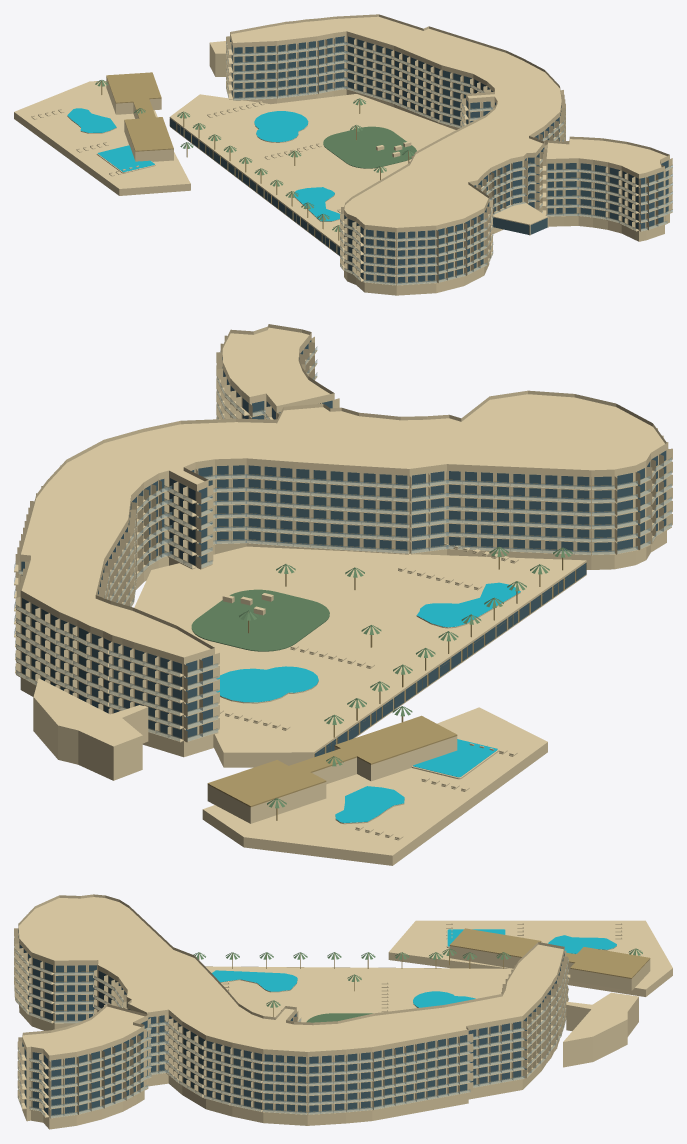
File: doubletree.glb
3 renders of one model, top to bottom at view 1: azimuth 30°, elevation 25°; view 2: azimuth 150°, elevation 25°; view 3: azimuth 270°, elevation 25°, orthographic. The views are drawn at different scales.
Visible parts, largest first — view 1: Geschwungener Hauptbau, Poolterrassen und Dolmen-Garten, Beach Club und Felsenterrasse, Gebogener Eingangsfluegel, Gartenpools, Pools direkt am Meer, Verglaste Eingangshalle, Niedriger Nordfluegel; view 2: Geschwungener Hauptbau, Poolterrassen und Dolmen-Garten, Beach Club und Felsenterrasse, Gebogener Eingangsfluegel, Niedriger Nordfluegel, Gartenpools, Pools direkt am Meer; view 3: Geschwungener Hauptbau, Gebogener Eingangsfluegel, Beach Club und Felsenterrasse, Poolterrassen und Dolmen-Garten, Niedriger Nordfluegel, Gartenpools, Pools direkt am Meer.
Boxes of the visible parts, x1,y1,x2,y2 form: Geschwungener Hauptbau: [226, 14, 565, 295]; Poolterrassen und Dolmen-Garten: [169, 94, 455, 256]; Beach Club und Felsenterrasse: [14, 72, 193, 195]; Gebogener Eingangsfluegel: [542, 136, 672, 241]; Gartenpools: [254, 111, 339, 221]; Pools direkt am Meer: [67, 108, 155, 173]; Verglaste Eingangshalle: [492, 202, 548, 235]; Niedriger Nordfluegel: [209, 41, 226, 76]; Geschwungener Hauptbau: [14, 390, 672, 757]; Poolterrassen und Dolmen-Garten: [134, 543, 586, 767]; Beach Club und Felsenterrasse: [202, 706, 547, 865]; Gebogener Eingangsfluegel: [216, 324, 339, 419]; Niedriger Nordfluegel: [33, 678, 148, 780]; Gartenpools: [216, 582, 520, 703]; Pools direkt am Meer: [335, 738, 499, 824]; Geschwungener Hauptbau: [14, 894, 568, 1125]; Gebogener Eingangsfluegel: [17, 1004, 151, 1129]; Beach Club und Felsenterrasse: [388, 920, 672, 996]; Poolterrassen und Dolmen-Garten: [193, 952, 567, 1022]; Niedriger Nordfluegel: [563, 992, 638, 1067]; Gartenpools: [212, 970, 475, 1007]; Pools direkt am Meer: [446, 929, 616, 954].
Bounding box in the file's own units: 144 × 25.1 × 195.
